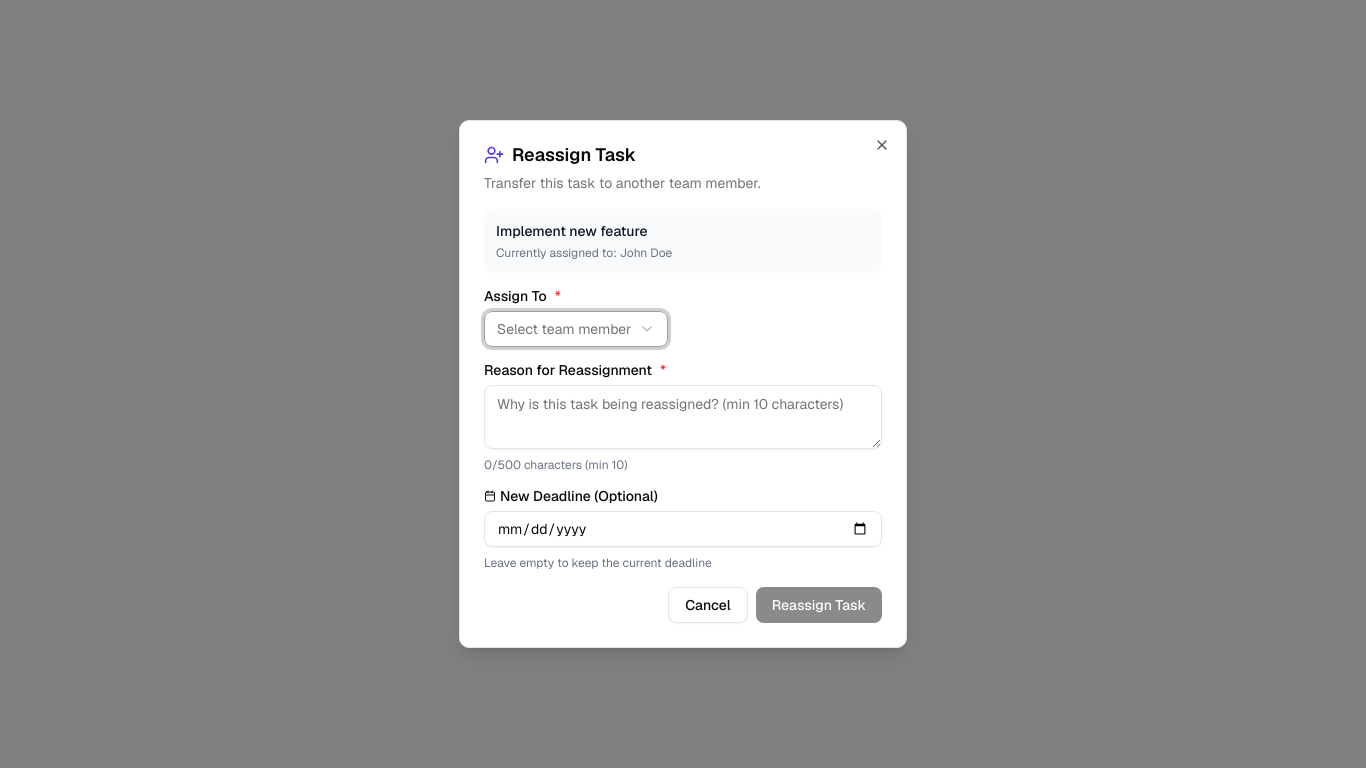
Test: ReassignTaskModal › updates character count when typing reason
Type "Testing reason" into the text box with placeholder "Why is this task being reassigned? (min 10 characters)" at (683, 417), box [484,385,882,449]
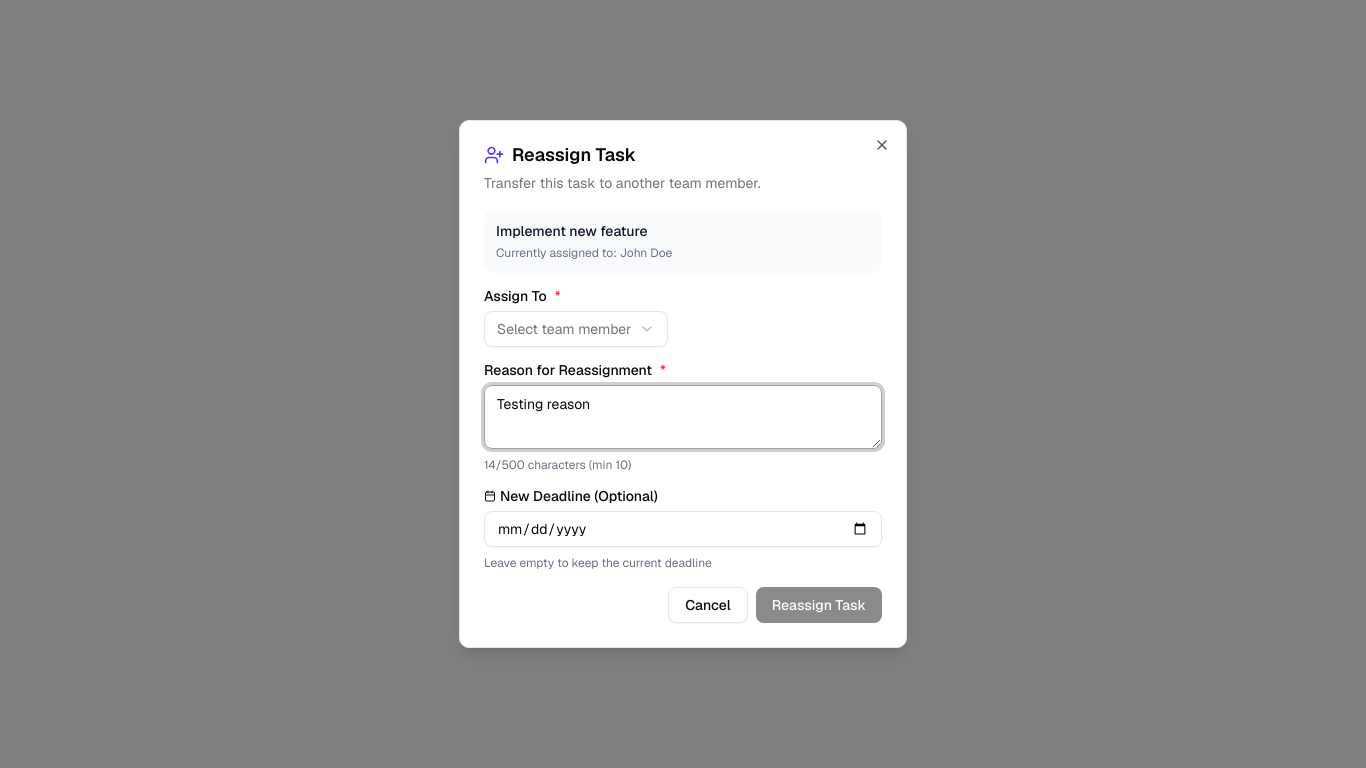
Now the text "14/500 characters (min 10)" is shown, box [484,457,631,473]
